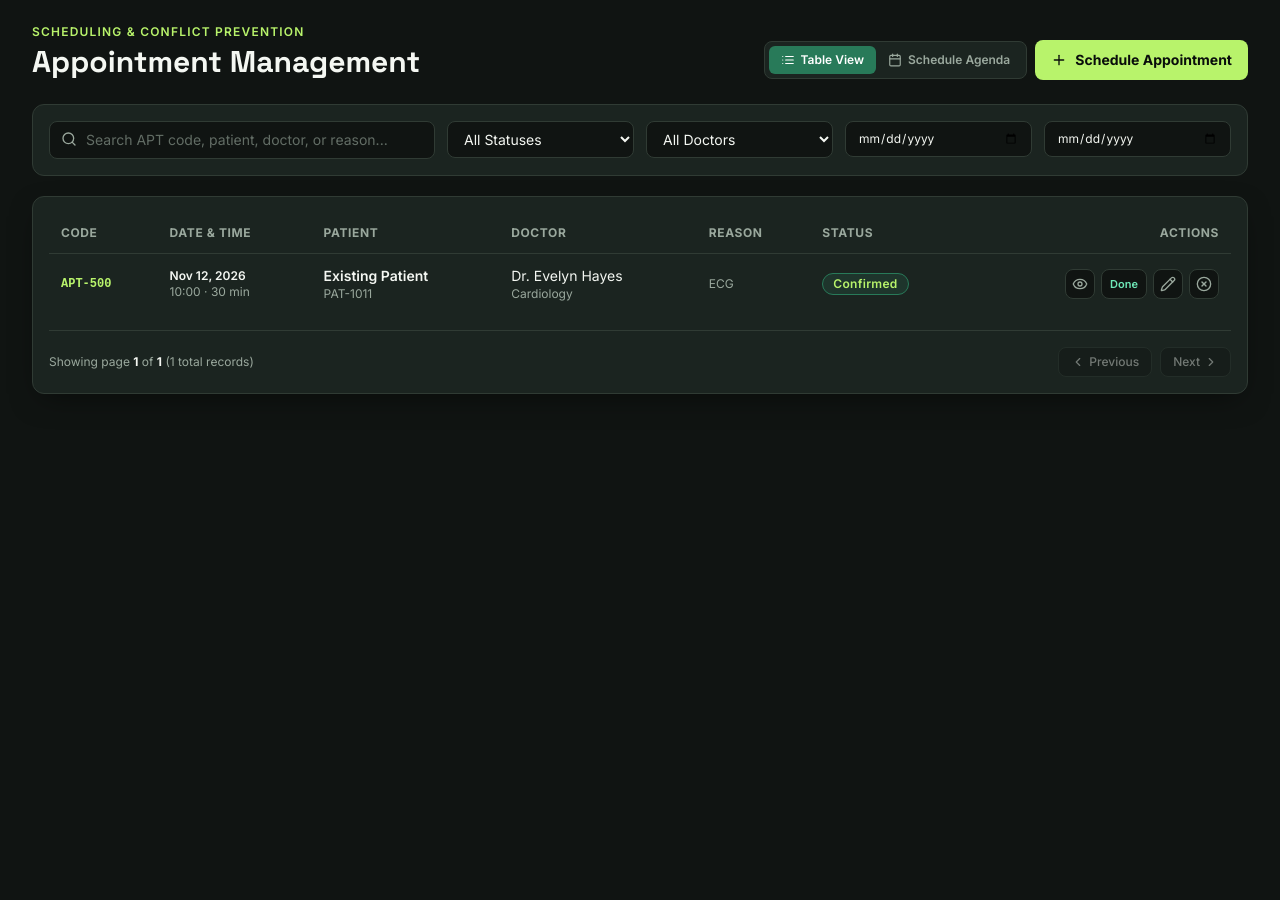
Scenario: Clinical Workflows & API Client › displays clear HTTP 409 conflict banner and open time slots when booking collides
The width and height of the screenshot is (1280, 900).
Expected: the text "APT-500" is shown, [49,254,158,314]
Click the button "Schedule Appointment": (1142, 60) [1035,40,1248,80]
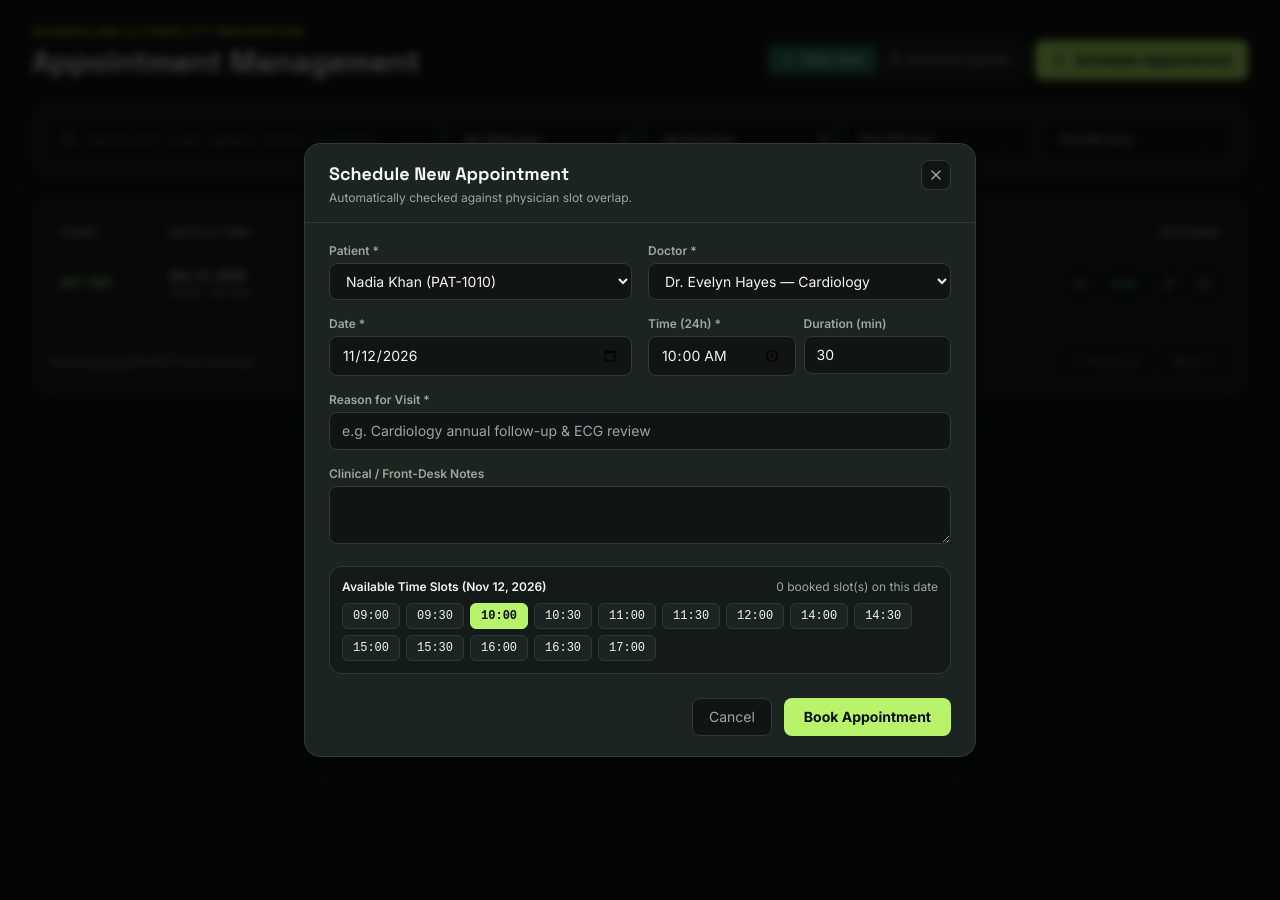
In the field with placeholder "e.g. Cardiology annual follow-up & ECG review": (640, 431) [329,412,951,450], type "Chest pain consultation"
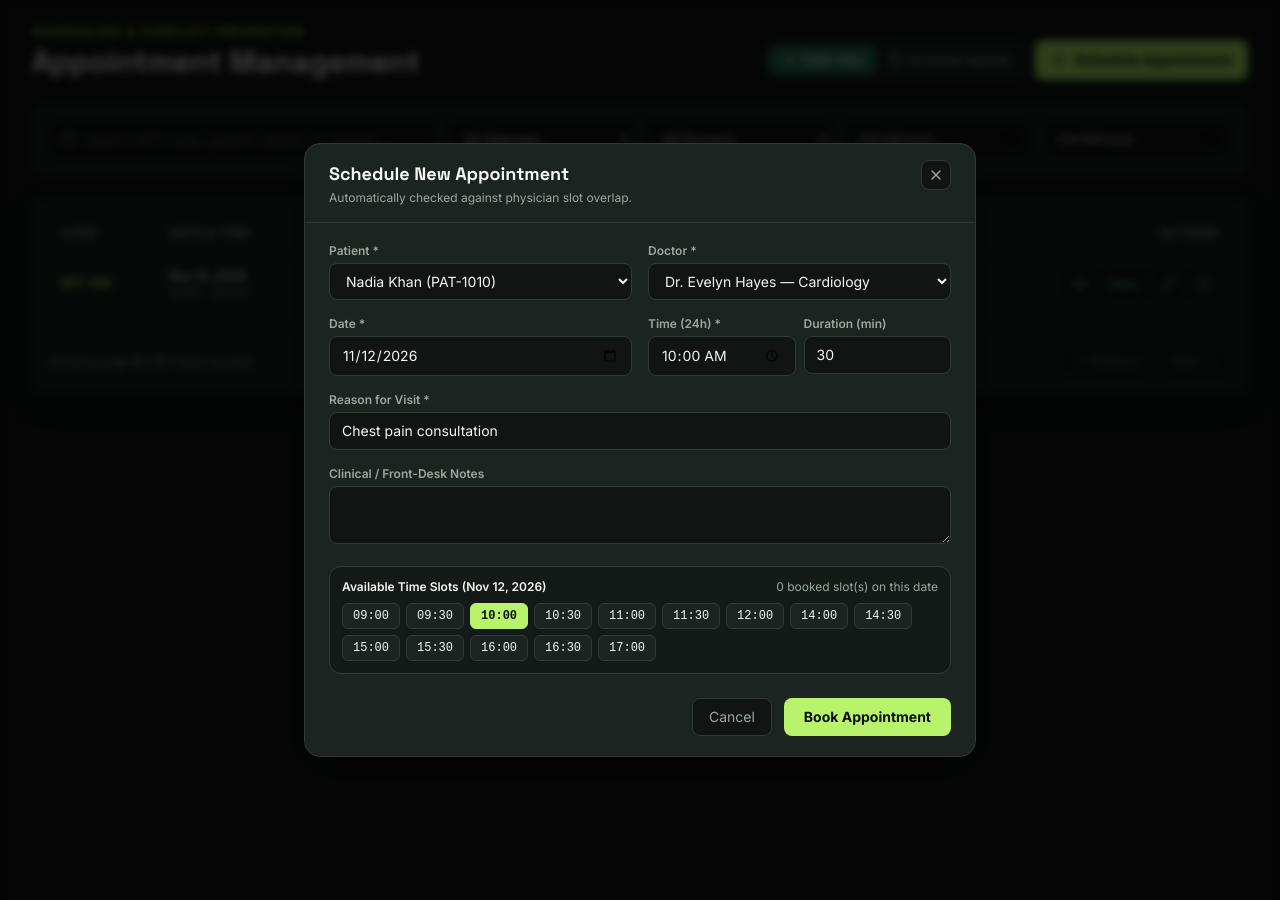
Click the button "Book Appointment": (867, 717) [784,698,951,736]
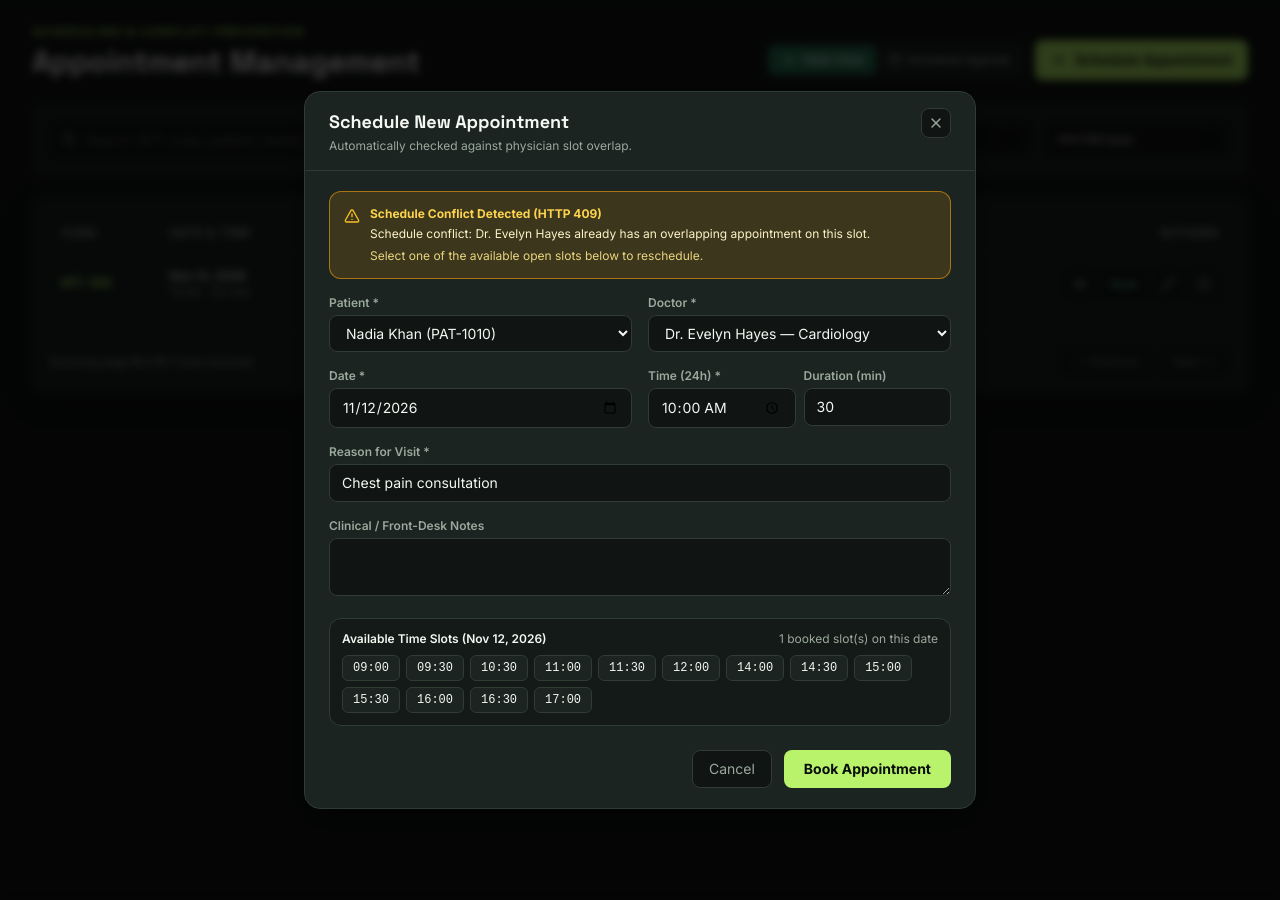
Expected: the button "10:30" is shown, [470,655,528,681]
Expected: the message with test id "appointment-conflict-alert" shows "Schedule conflict: Dr. Evelyn Hayes already has an overlapping appointment", [370,226,870,241]
